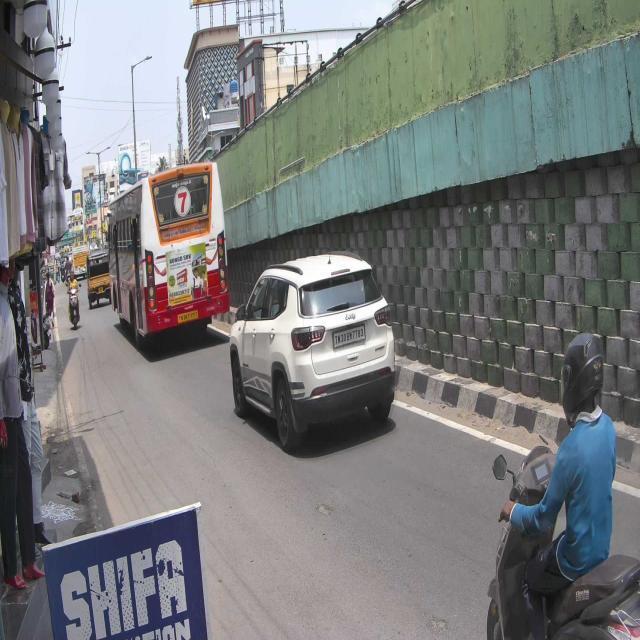single_rider: (484, 328, 640, 640)
